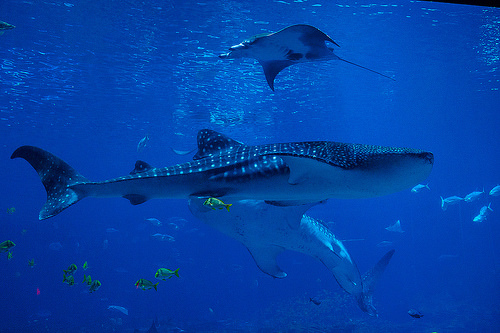shark: (8, 114, 449, 209)
